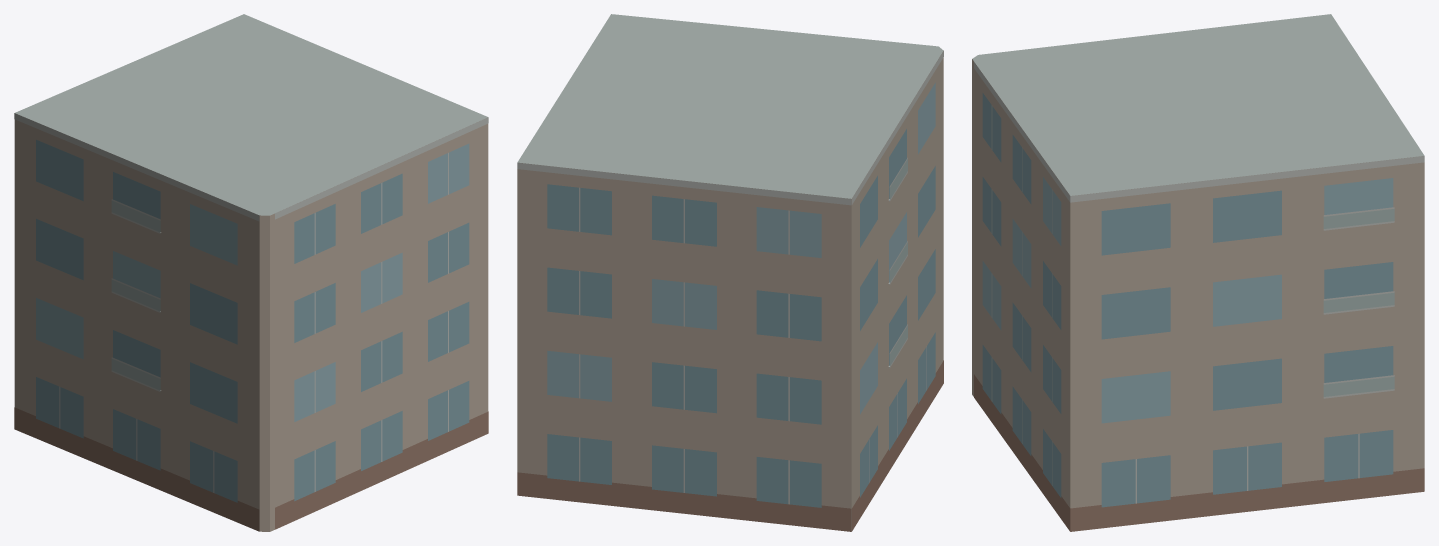
File: survey-upis-32665196.glb
The picture shows the model from 3 angles, left to right: view 1: azimuth 30°, elevation 25°; view 2: azimuth 150°, elevation 25°; view 3: azimuth 270°, elevation 25°; orthographic projection. The views are drawn at different scales.
Visible parts, largest first — view 1: survey-upis-32665196.tmp; view 2: survey-upis-32665196.tmp; view 3: survey-upis-32665196.tmp.
Part boxes in pixels (x1,y1,x2,y2): survey-upis-32665196.tmp: (14, 14, 488, 531); survey-upis-32665196.tmp: (517, 14, 943, 531); survey-upis-32665196.tmp: (972, 14, 1424, 531).
Bounding box in the file's own units: 14.42 × 12.4 × 15.15.
